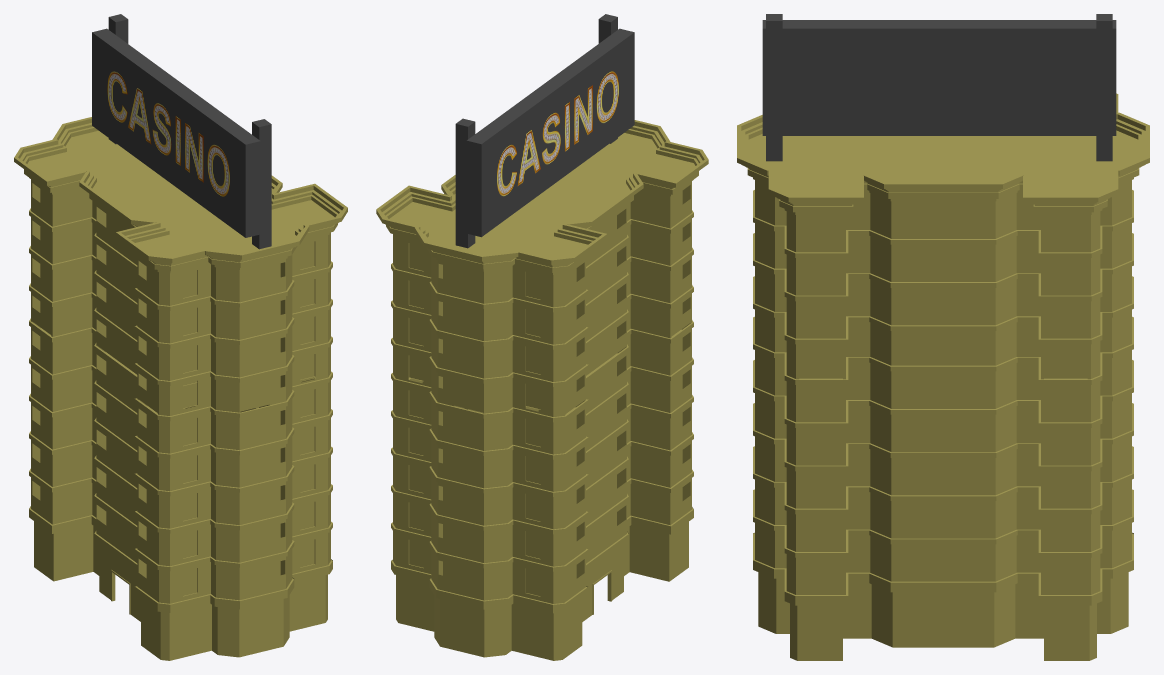
Rendered from colorCasino.fbx.
The picture shows the model from 3 angles, left to right: view 1: azimuth 30°, elevation 25°; view 2: azimuth 150°, elevation 25°; view 3: azimuth 270°, elevation 25°; orthographic projection. The views are drawn at different scales.
Parts seen in each view (by area): view 1: tower, sign; view 2: tower, sign; view 3: tower, sign.
Part boxes in pixels (left/top/right/bottom): tower: left=14, top=117, right=347, bottom=660; sign: left=92, top=14, right=271, bottom=249; tower: left=376, top=120, right=708, bottom=660; sign: left=455, top=14, right=634, bottom=248; tower: left=737, top=93, right=1149, bottom=660; sign: left=762, top=14, right=1116, bottom=161.
Size of the model in its own units: 15.97 by 39.97 by 24.91.
